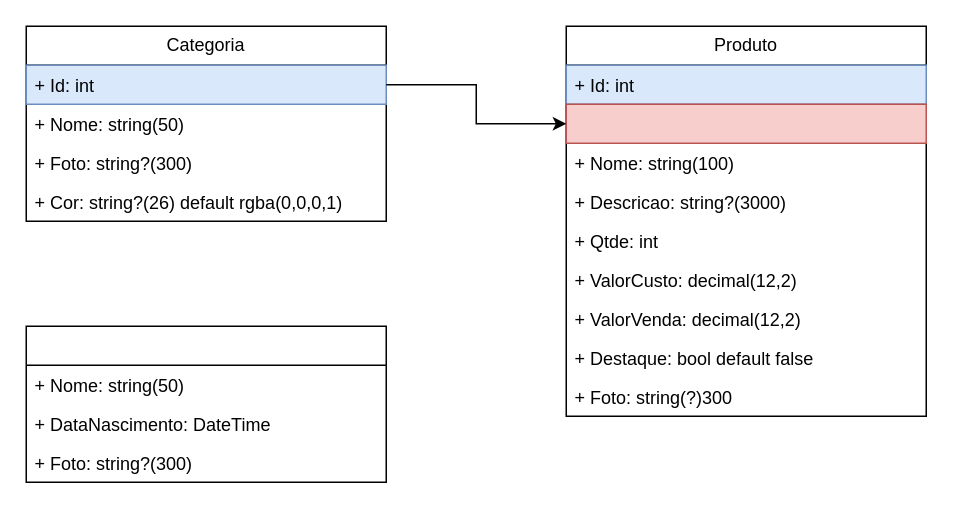
This 953x513 diagram has some shape labels left out. The box of each missing label's shape, as (x1, y1, x2, y2) in pixels:
+ CategoriaId: int: (565, 103, 926, 143)
Usuario: IdentityUser: (25, 325, 386, 482)
